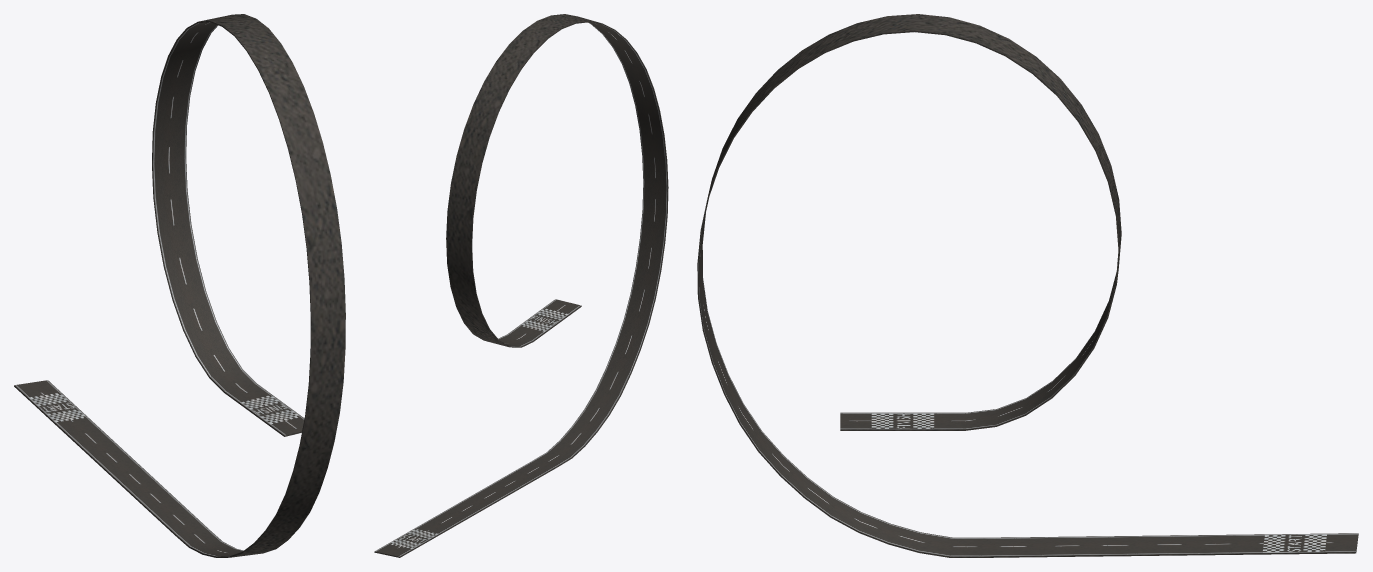
Rendered from TrackLevel005.FBX.
3 renders of one model, left to right at view 1: azimuth 30°, elevation 25°; view 2: azimuth 150°, elevation 25°; view 3: azimuth 270°, elevation 25°, orthographic. The views are drawn at different scales.
Parts seen in each view (by area): view 1: Track005; view 2: Track005; view 3: Track005.
Part boxes in pixels (x1,y1,x2,y2): Track005: (14, 14, 345, 557); Track005: (374, 14, 668, 557); Track005: (697, 14, 1358, 557).
Size of the model in its own units: 493 by 3013 by 3331.
